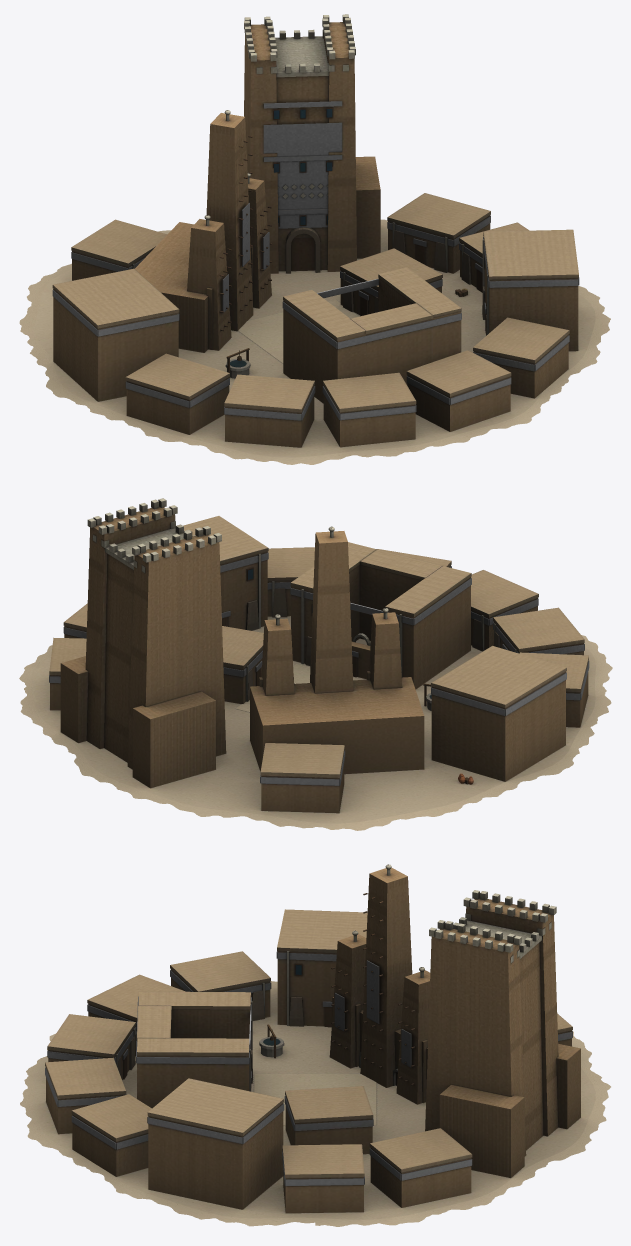
File: kingdoms-town-medium-b-maghreb.glb
3 views of the same model, one above another, from view 1: azimuth 30°, elevation 25°; view 2: azimuth 150°, elevation 25°; view 3: azimuth 270°, elevation 25° (orthographic).
Visible parts, largest first — view 1: LOD0; view 2: LOD0; view 3: LOD0.
Part boxes in pixels (x1,y1,x2,y2): LOD0: (19, 14, 610, 464); LOD0: (19, 498, 612, 830); LOD0: (20, 864, 610, 1226).
Size of what is drawn, in the model's own units: 5.96 by 2.4 by 5.93.
3 materials, 3 textured.
